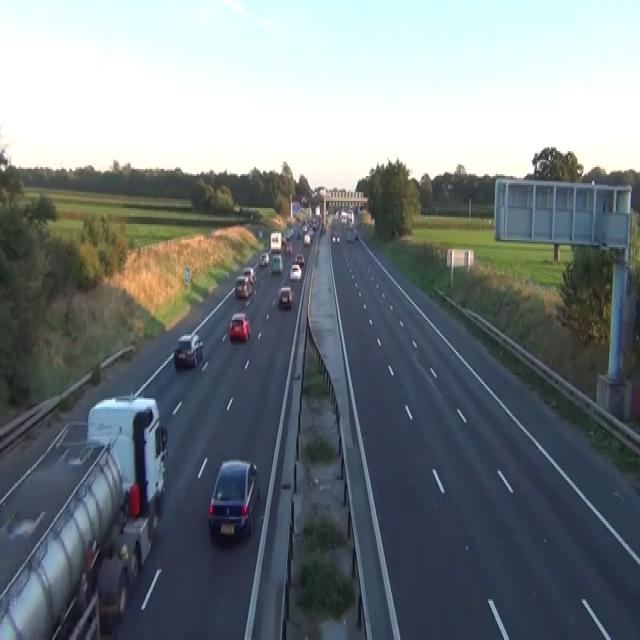Car: (208, 458, 260, 538), (173, 332, 203, 368), (229, 311, 250, 341), (234, 274, 251, 298), (278, 284, 293, 308), (270, 252, 283, 274), (243, 266, 256, 284), (289, 263, 301, 281), (259, 250, 269, 266), (295, 252, 304, 265), (284, 228, 293, 240), (346, 229, 354, 242), (331, 231, 340, 242), (300, 194, 308, 206), (284, 240, 292, 252), (303, 233, 310, 245), (281, 236, 287, 249), (301, 222, 308, 233), (346, 217, 353, 227), (320, 222, 326, 233), (288, 228, 293, 238), (296, 230, 302, 238), (354, 231, 359, 240), (258, 228, 262, 236)
Truck: (0, 393, 167, 638), (85, 393, 167, 622), (270, 231, 281, 251)
